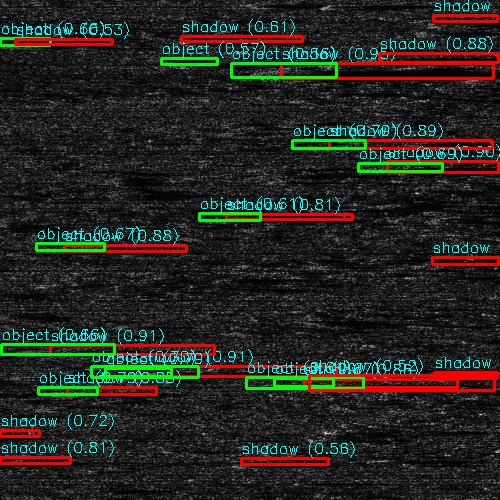rock: (230, 66, 313, 79), (306, 137, 389, 148), (121, 367, 184, 378), (387, 14, 460, 23), (34, 243, 107, 252), (13, 346, 96, 353), (196, 215, 259, 222), (272, 381, 335, 386), (207, 460, 270, 465), (369, 55, 422, 60), (60, 485, 113, 490), (380, 155, 391, 176), (0, 311, 32, 318), (45, 389, 86, 394), (223, 276, 254, 279)
shadow: (272, 66, 500, 79), (386, 155, 500, 176), (153, 367, 334, 378), (348, 137, 498, 148), (71, 243, 206, 252), (228, 215, 375, 222), (55, 346, 197, 353), (0, 456, 78, 465), (424, 14, 500, 23), (304, 381, 434, 386), (66, 389, 179, 394), (396, 55, 500, 60), (239, 460, 332, 465), (6, 311, 60, 318), (87, 485, 144, 490), (239, 276, 331, 279)
